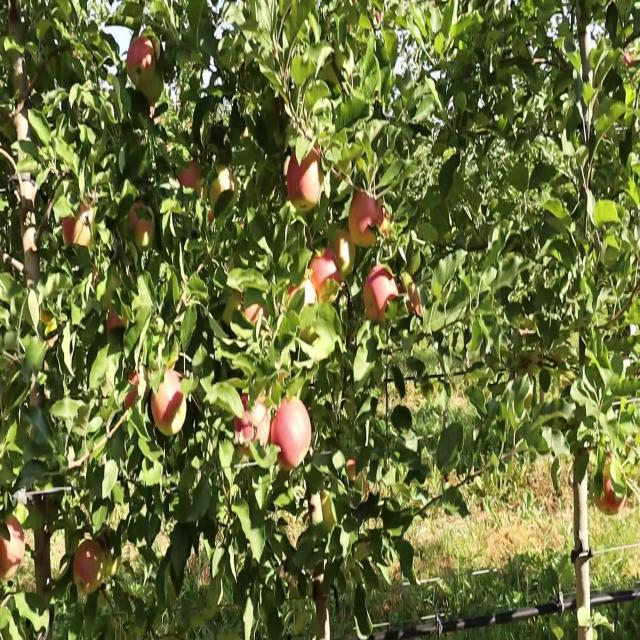apple: (272, 398, 313, 471), (288, 149, 325, 213), (152, 369, 185, 437), (348, 191, 386, 249), (364, 270, 400, 325), (236, 398, 268, 459), (128, 35, 157, 96), (72, 540, 103, 596), (0, 519, 26, 580), (312, 248, 342, 299), (332, 227, 358, 281), (128, 199, 156, 249), (68, 199, 96, 249), (232, 398, 255, 457), (600, 462, 624, 517), (140, 63, 165, 107), (208, 170, 235, 210), (252, 398, 270, 446), (348, 462, 370, 500), (180, 156, 202, 192), (124, 369, 140, 412), (316, 497, 336, 530), (408, 284, 423, 316), (108, 305, 123, 334), (624, 49, 640, 69)
